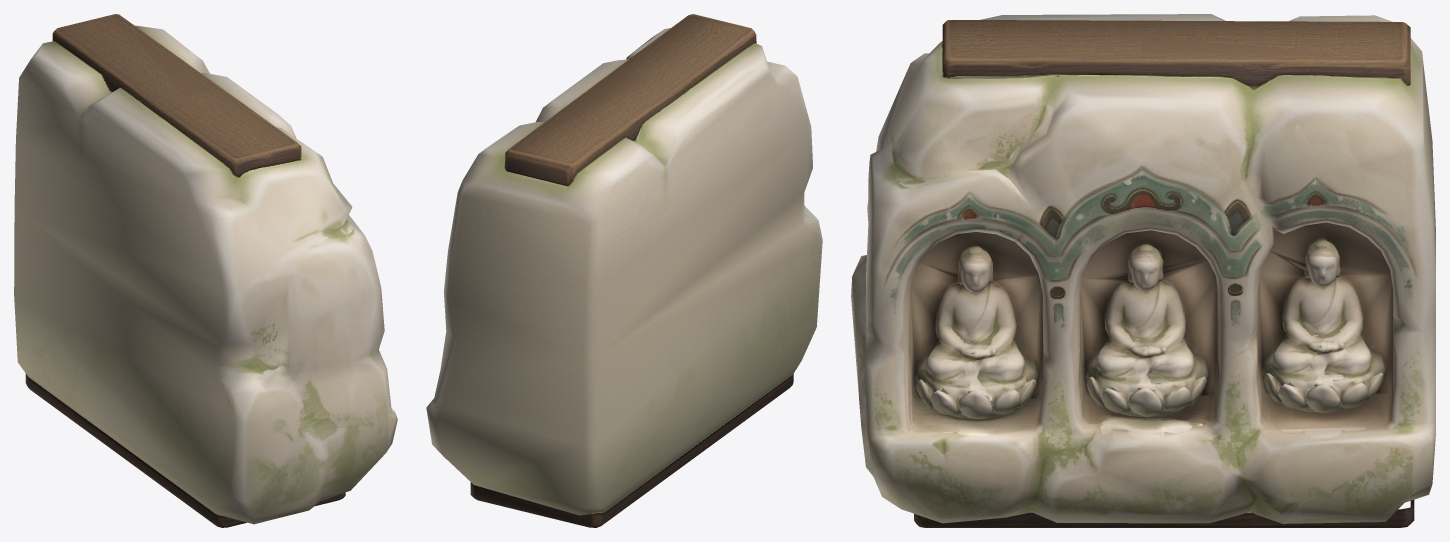
Rendered from tripo_convert_a0904a04-a720-4203-a46e-e4f6816c294f.fbx.
The picture shows the model from 3 angles, left to right: view 1: azimuth 30°, elevation 25°; view 2: azimuth 150°, elevation 25°; view 3: azimuth 270°, elevation 25°; orthographic projection. The views are drawn at different scales.
Visible parts, largest first — view 1: tripo_node_a0904a04; view 2: tripo_node_a0904a04; view 3: tripo_node_a0904a04.
Part boxes in pixels (x1=…): tripo_node_a0904a04: x1=14, y1=14, x2=397, y2=527; tripo_node_a0904a04: x1=426, y1=14, x2=822, y2=527; tripo_node_a0904a04: x1=851, y1=14, x2=1435, y2=527.
Size of the model in its own units: 0.4277 by 0.8457 by 0.998.
Materials: 1 (1 with a texture image).
